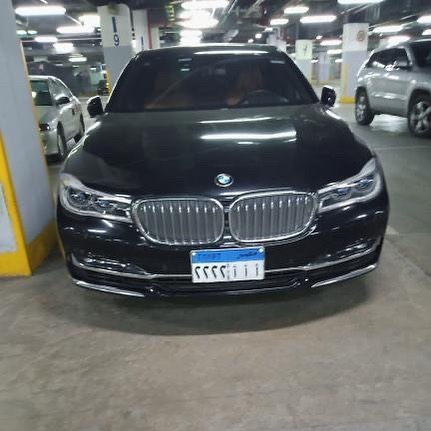carpl: (186, 245, 269, 290)
